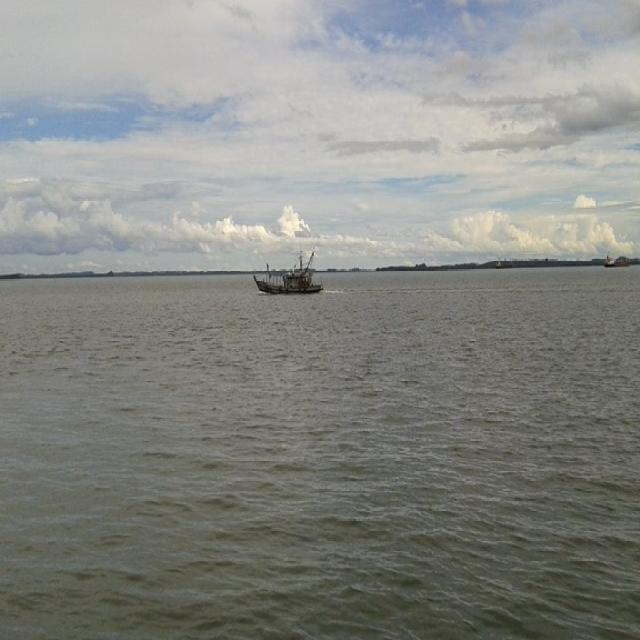fishing boat: (251, 238, 323, 296)
